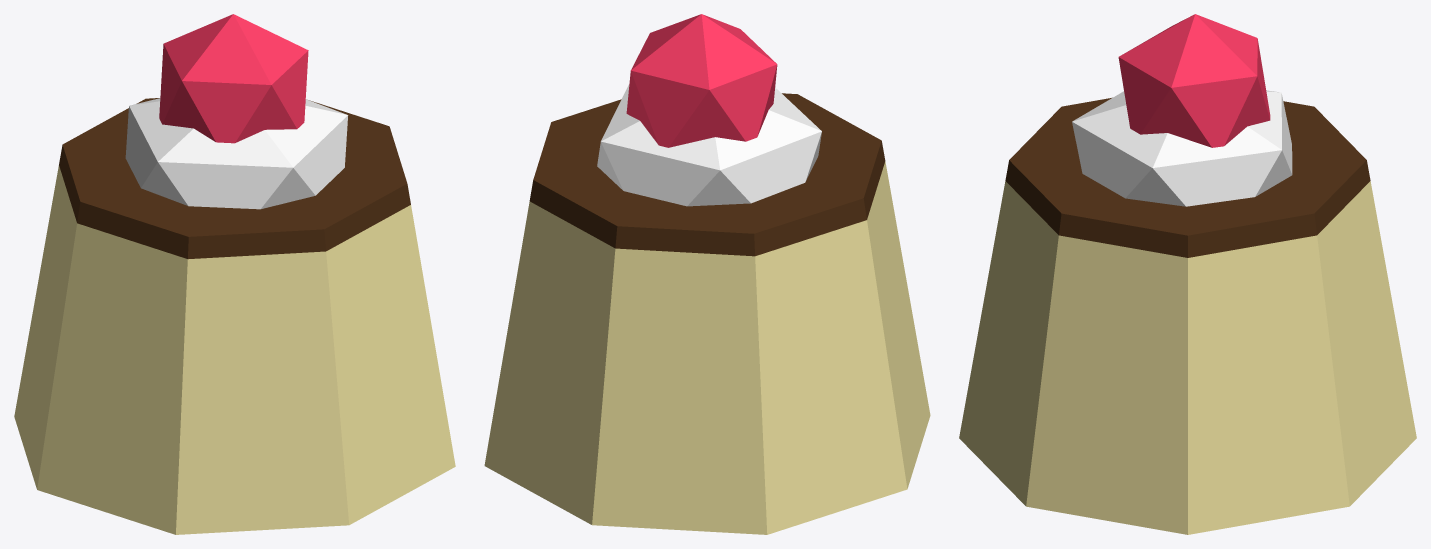
File: pudding.fbx
3 views of the same model, side by side, from view 1: azimuth 30°, elevation 25°; view 2: azimuth 150°, elevation 25°; view 3: azimuth 270°, elevation 25° (orthographic).
Parts seen in each view (by area): view 1: pudding; view 2: pudding; view 3: pudding.
Boxes of the visible parts, <box> form: pudding: <box>14,14,455,534</box>; pudding: <box>484,14,930,534</box>; pudding: <box>959,14,1416,534</box>.
Bounding box in the file's own units: 7.15 × 7.33 × 7.15.
